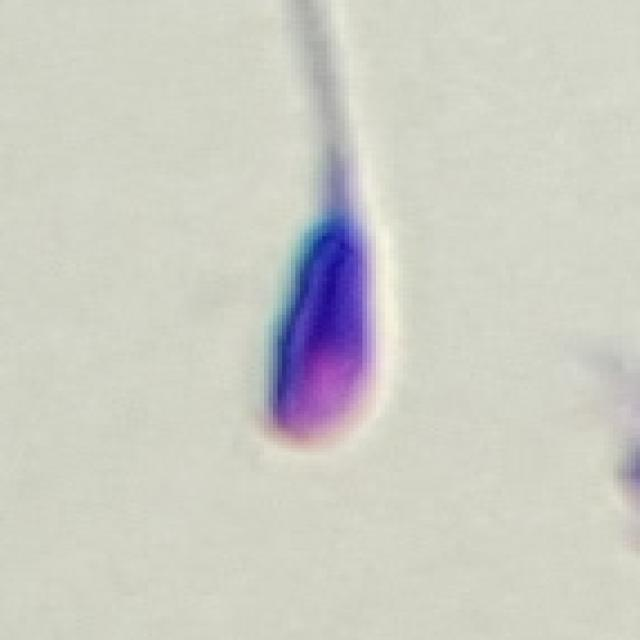abnormal sperm: (260, 94, 387, 451)
